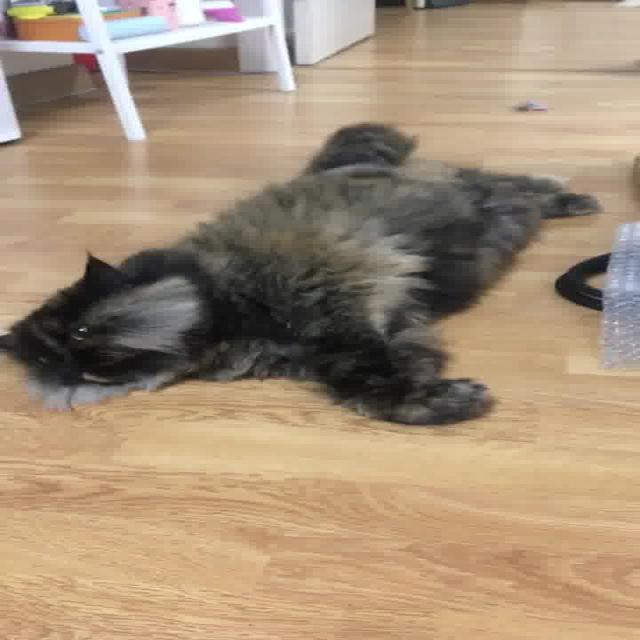cat: (0, 118, 596, 428)
